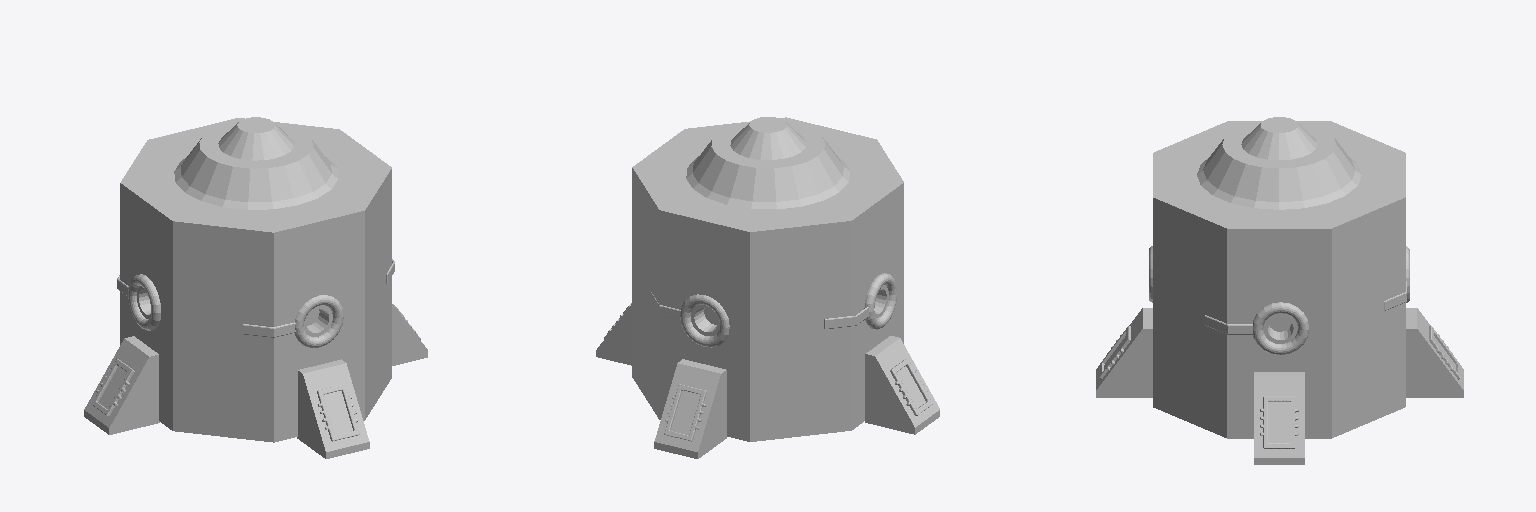
File: spectralAscensionDevice.obj
The picture shows the model from 3 angles: view 1: azimuth 30°, elevation 25°; view 2: azimuth 150°, elevation 25°; view 3: azimuth 270°, elevation 25°; orthographic projection.
Parts seen in each view (by area): view 1: Main_Body, Top_Projector, Circuit_Support_1 Circuit_Panel_1, Circuit_Support_1 Circuit_Panel_2, Valve_Front_1 Valve_2, Circuit_Support_1 Circuit_Panel_3, Valve_Front_1 Valve_4, Circuit_Panel_1 Circuit_Slot_1, Circuit_Panel_2 Circuit_Slot_1, Valve_2 Valve_1; view 2: Main_Body, Top_Projector, Circuit_Support_1 Circuit_Panel_4, Circuit_Support_1 Circuit_Panel_2, Valve_Front_1 Valve_1, Circuit_Support_1 Circuit_Panel_3, Valve_Front_1 Valve_4, Circuit_Panel_4 Circuit_Slot_1, Circuit_Panel_2 Circuit_Slot_1, Valve_1 Valve_1; view 3: Main_Body, Top_Projector, Circuit_Support_1 Circuit_Panel_3, Circuit_Support_1 Circuit_Panel_4, Circuit_Support_1 Circuit_Panel_1, Valve_Front_1 Valve_3, Circuit_Panel_3 Circuit_Slot_1, Valve_3 Valve_1.
Part boxes in pixels (x1,y1,x2,y2): Main_Body: (120,118,391,442); Top_Projector: (174,117,337,209); Circuit_Support_1 Circuit_Panel_1: (297,359,369,458); Circuit_Support_1 Circuit_Panel_2: (84,336,159,434); Valve_Front_1 Valve_2: (295,295,343,347); Circuit_Support_1 Circuit_Panel_3: (392,304,427,365); Valve_Front_1 Valve_4: (128,274,160,330); Circuit_Panel_1 Circuit_Slot_1: (317,384,359,441); Circuit_Panel_2 Circuit_Slot_1: (92,359,134,416); Valve_2 Valve_1: (304,305,332,336); Main_Body: (632,117,903,441); Top_Projector: (686,117,849,209); Circuit_Support_1 Circuit_Panel_4: (654,359,726,458); Circuit_Support_1 Circuit_Panel_2: (865,336,939,434); Valve_Front_1 Valve_1: (680,294,729,347); Circuit_Support_1 Circuit_Panel_3: (596,304,631,365); Valve_Front_1 Valve_4: (864,273,896,329); Circuit_Panel_4 Circuit_Slot_1: (664,384,706,441); Circuit_Panel_2 Circuit_Slot_1: (890,358,932,415); Valve_1 Valve_1: (691,305,719,335); Main_Body: (1153,121,1405,438); Top_Projector: (1197,117,1361,209); Circuit_Support_1 Circuit_Panel_3: (1254,372,1304,464); Circuit_Support_1 Circuit_Panel_4: (1406,308,1463,397); Circuit_Support_1 Circuit_Panel_1: (1096,308,1152,397); Valve_Front_1 Valve_3: (1253,302,1308,354); Circuit_Panel_3 Circuit_Slot_1: (1260,396,1298,448); Valve_3 Valve_1: (1263,313,1297,343).
Size of the model in its own units: 15.9 by 12.48 by 15.85.